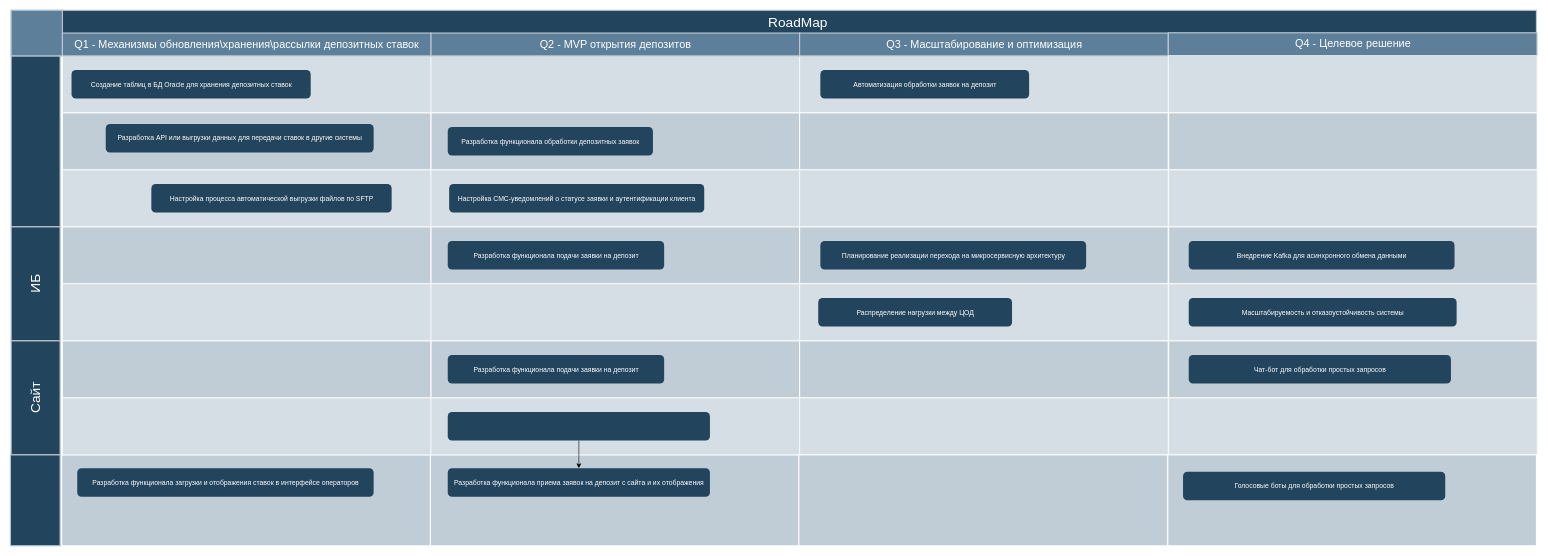
Image size: 1548x556. Some labels were removed from this diagram. The shapes that lost their labels are listed below. From the top down, each one's centre as x and y in pixels, then its label:
At point (36, 32): "v 1.0".
At point (35, 141): "АБС".
At point (578, 426): "Разработка функционала отправки заявок на депозит в колл-центр".
At point (35, 500): "Колл-центр".
